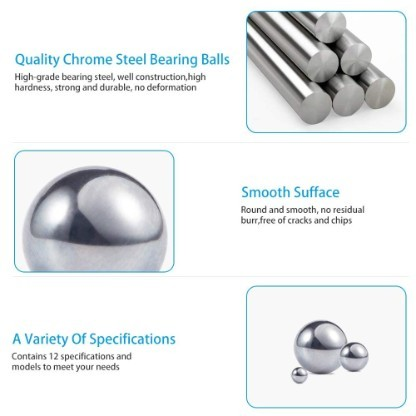ironball: (21, 165, 167, 272), (293, 319, 346, 373), (314, 11, 346, 42), (339, 341, 368, 371), (290, 366, 307, 383)
